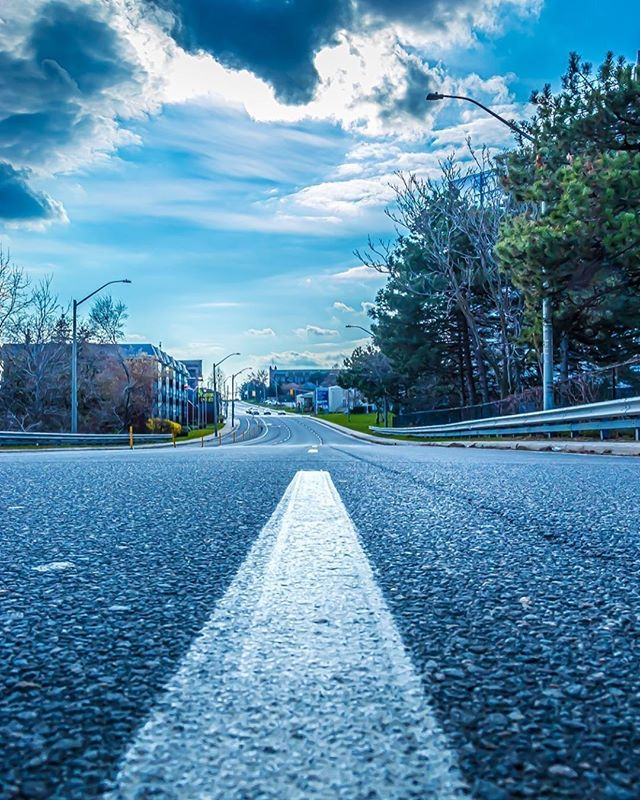building: (125, 339, 214, 449), (259, 359, 376, 405)
sky: (1, 1, 586, 321)
street: (28, 426, 622, 800)
tree: (512, 87, 640, 376), (420, 200, 527, 391), (1, 283, 78, 458), (366, 222, 432, 419), (60, 335, 149, 449)
